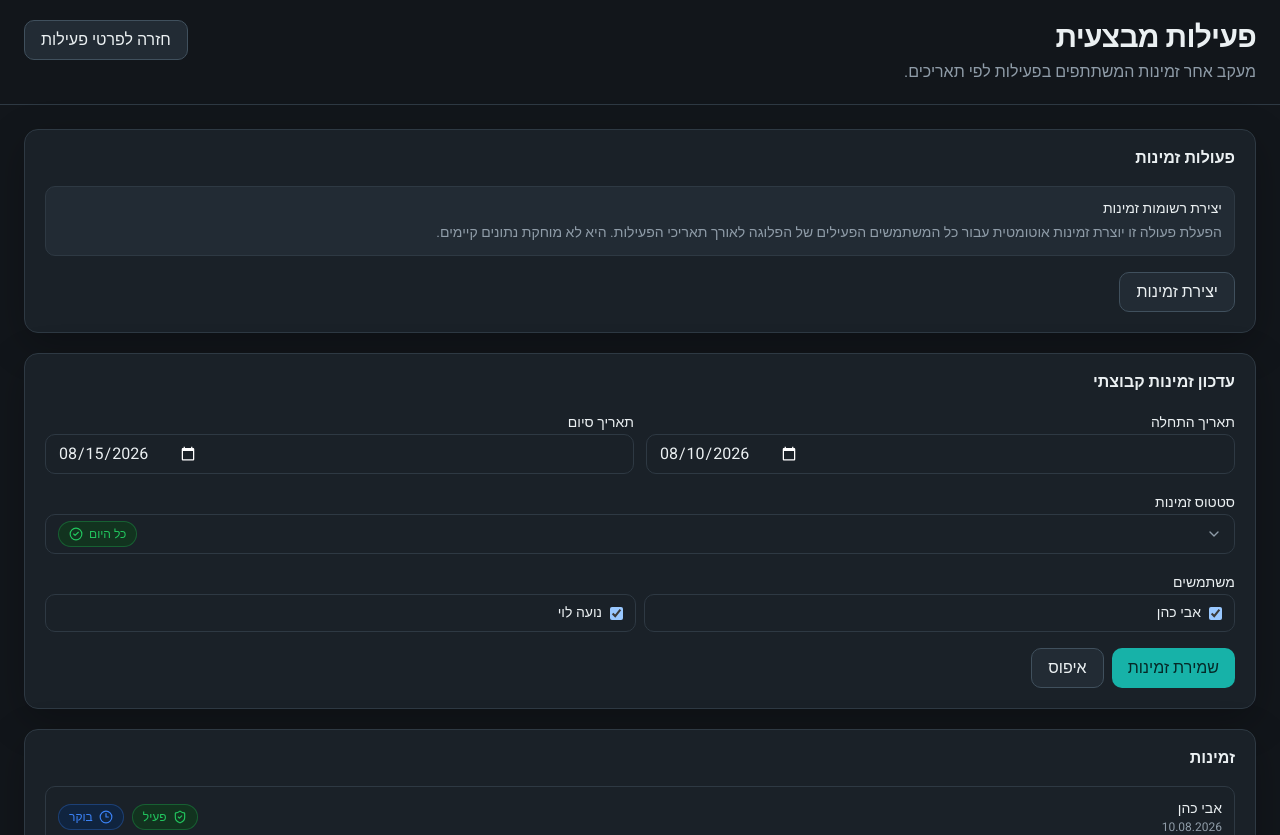
Scenario: ActivityAvailabilityPage › shows bulk update error when mutation fails
Click the button "שמירת זמינות". click: (1173, 668)
box: [1112, 648, 1235, 688]
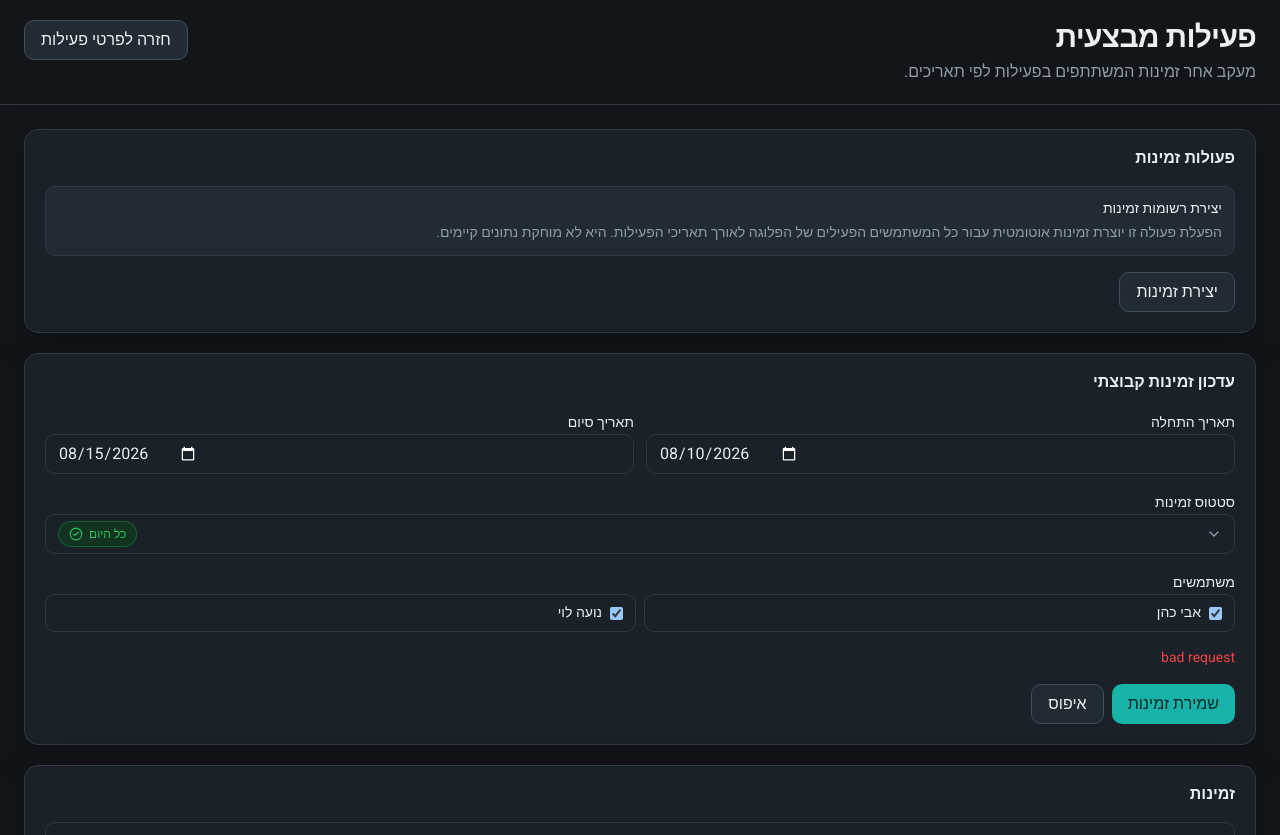
Result: the text "bad request" is shown at [1161, 647, 1235, 668]
